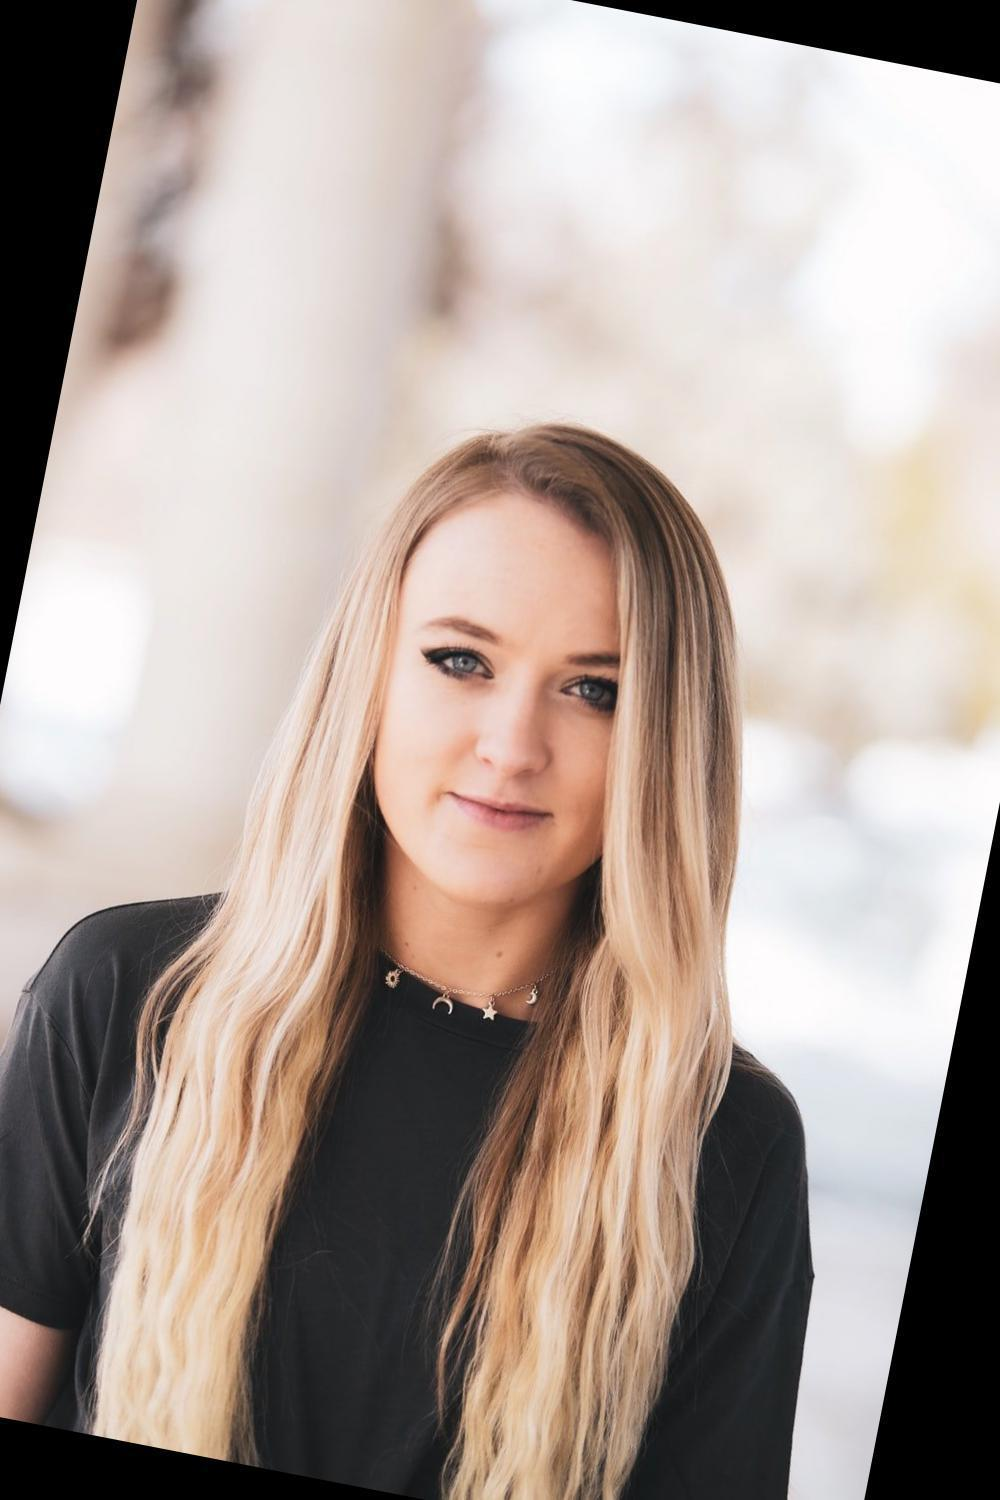Sober: (395, 531, 638, 884)
